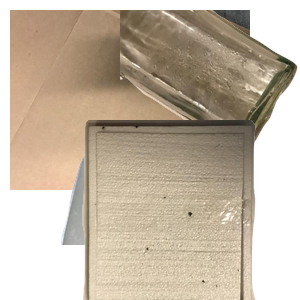cardboard: (10, 10, 250, 190)
glass: (120, 10, 300, 153)
plastic: (58, 120, 298, 300)
trash: (80, 120, 300, 300)
